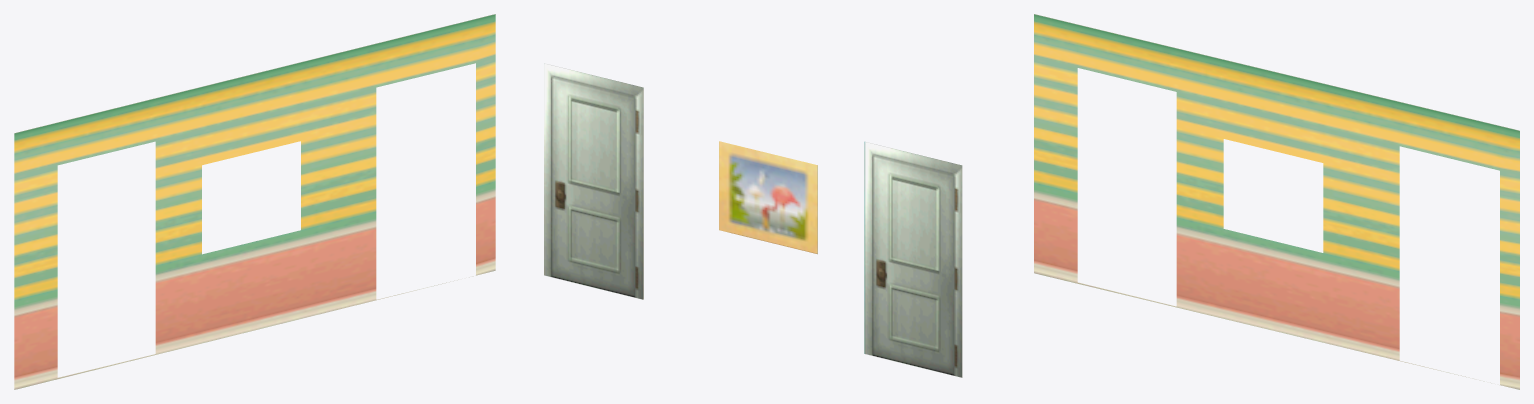
Rendered from mbedwall03.glb.
The picture shows the model from 3 angles, left to right: view 1: azimuth 30°, elevation 25°; view 2: azimuth 150°, elevation 25°; view 3: azimuth 330°, elevation 25°; orthographic projection.
Parts seen in each view (by area): view 1: mbedwall03; view 2: mbedwall03; view 3: mbedwall03.
Boxes of the visible parts, x1,y1,x2,y2 form: mbedwall03: (14,14,495,389); mbedwall03: (544,63,962,377); mbedwall03: (1034,14,1519,389).
Size of the model in its own units: 1222 by 628 by 0.0281.
Materials: 3 (3 with a texture image).
